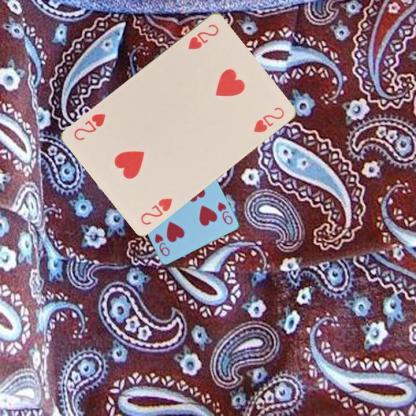2h: (137, 195, 174, 226), (185, 21, 220, 51)
9h: (214, 199, 234, 226)
